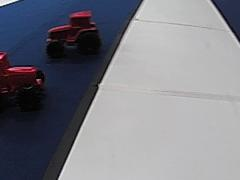Tracktor: (0, 48, 47, 111), (46, 8, 100, 55)
